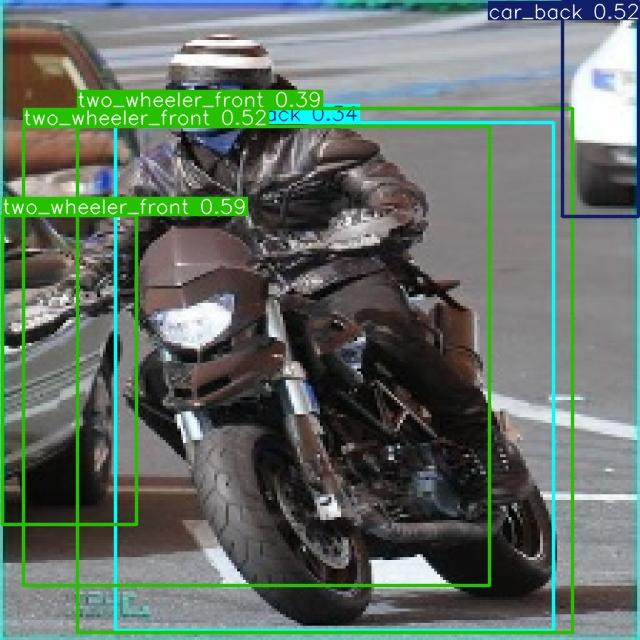car_front: (0, 7, 175, 259)
two_wheeler_front: (0, 230, 587, 629)
